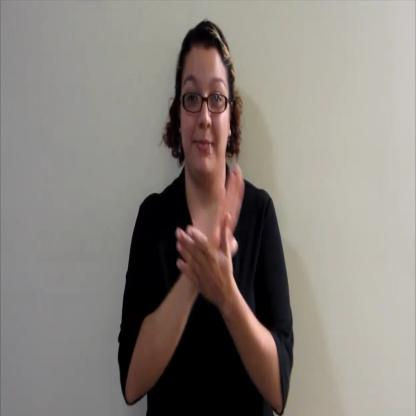NiceToMeetYou: (169, 155, 251, 316)
